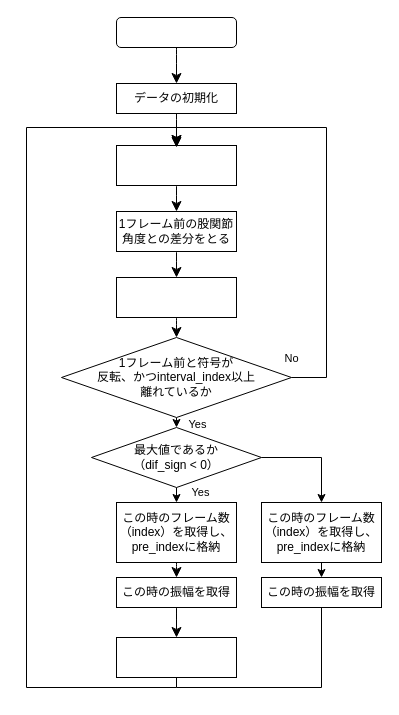
This 399x715 diagram has some shape labels left out. The shapes that lost their labels are listed below. From the top down, each one's centre as x and y in pixels, then its label:
[176,32]: コードの実行
[176,165]: 次のフレームの データ取得
[176,297]: 股関節角度の差分の符号のみ取得
[176,657]: max_flagを1 にして返す
